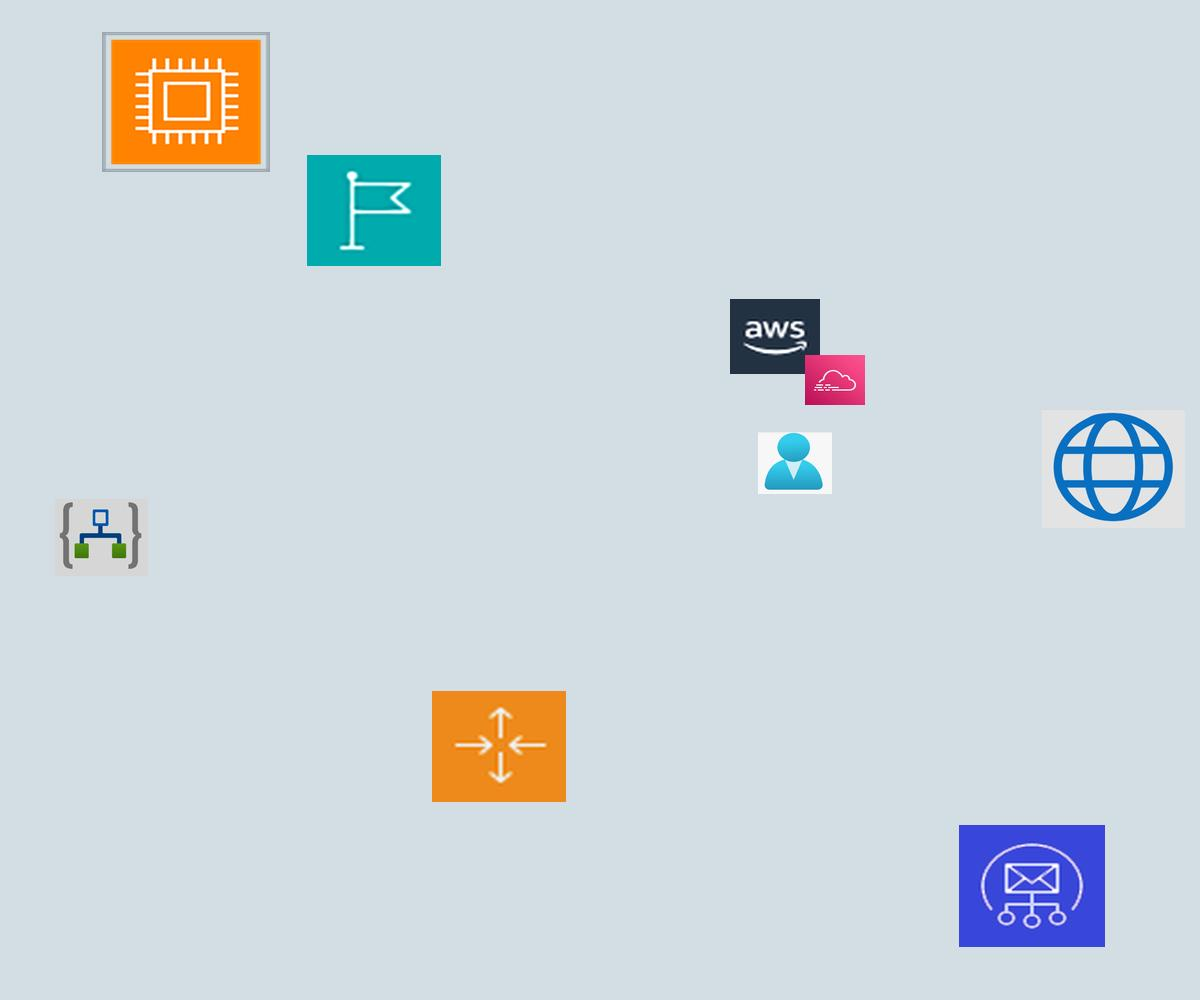AWS-Category_Compute: (102, 32, 270, 172)
AWS-Cloud-logo: (730, 299, 820, 374)
AWS-CloudTrail: (805, 355, 865, 405)
AWS-Region: (307, 155, 441, 266)
AWS-Scaling-group: (432, 691, 566, 802)
AWS-Simple-Email-Service: (959, 825, 1105, 947)
Azure_http: (1042, 409, 1185, 528)
Azure_integration-204-Logic-Apps: (55, 499, 148, 576)
Azure_users: (758, 432, 832, 494)
